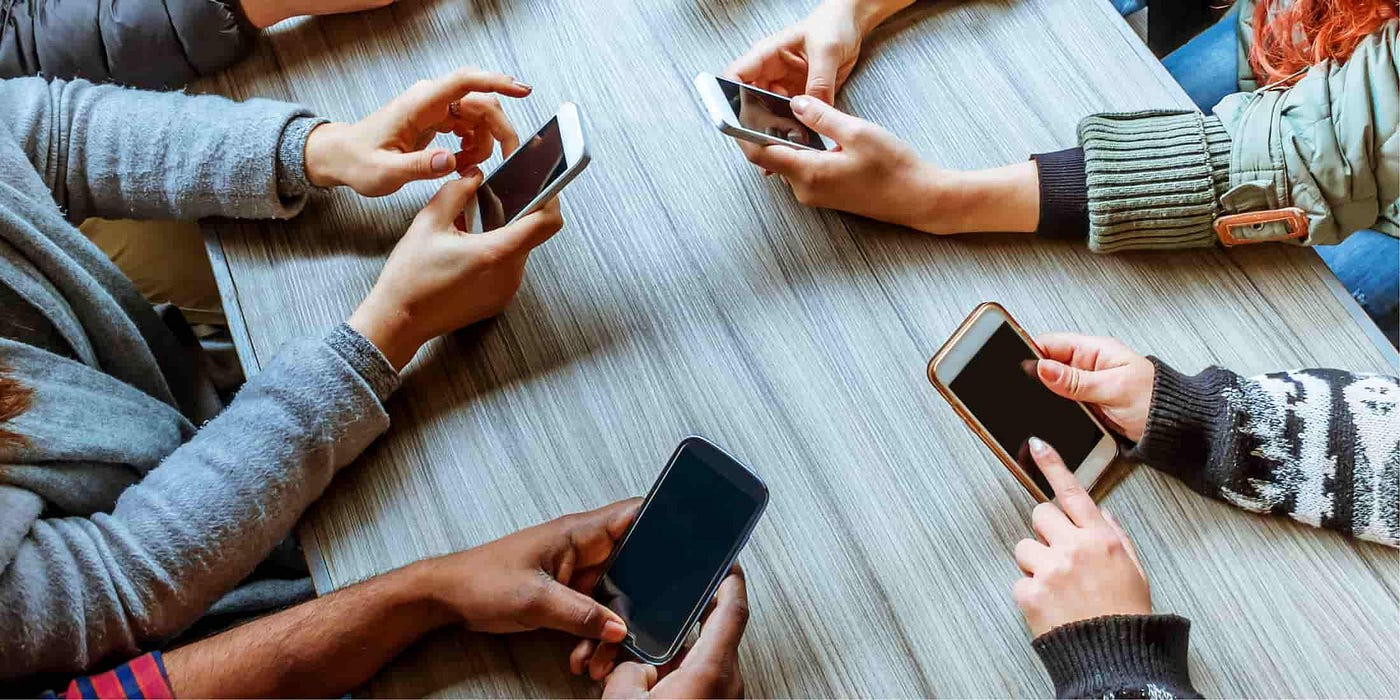non-cheating: (923, 294, 1121, 515), (592, 435, 774, 661), (472, 98, 593, 243), (688, 67, 856, 153)
